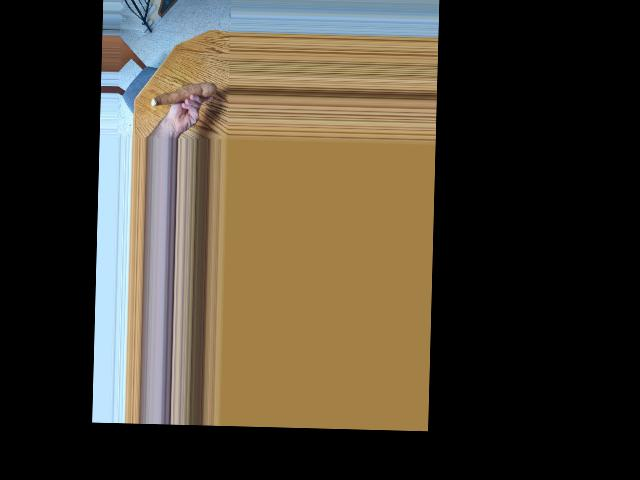sweet_potato: (149, 77, 214, 109)
